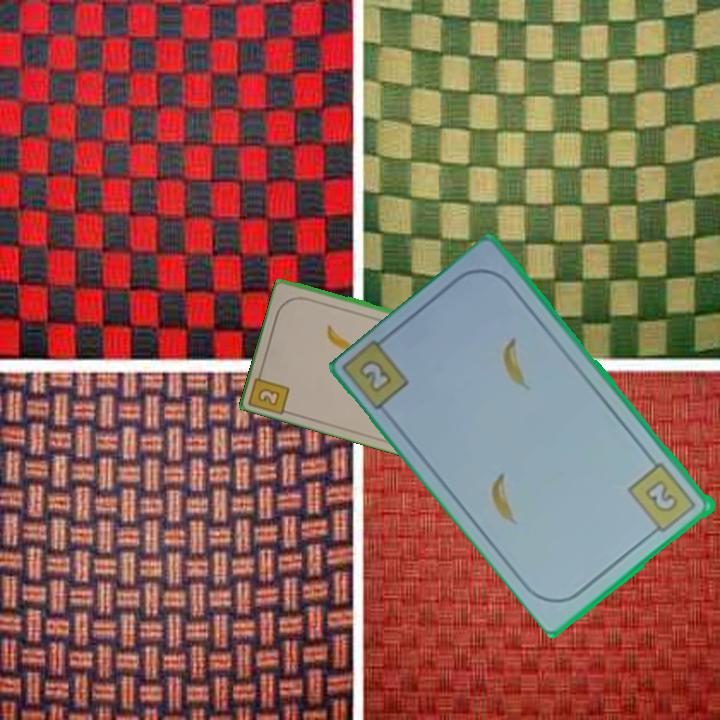2b: (624, 459, 700, 539), (247, 364, 293, 416), (355, 356, 396, 396)
